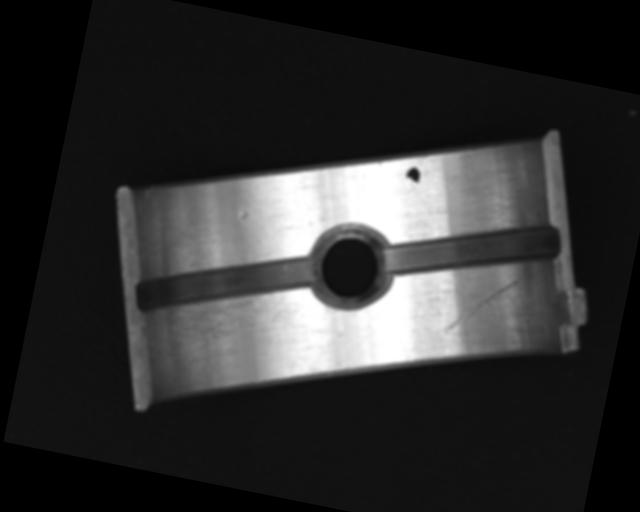blot: (403, 164, 422, 189)
bruise: (237, 209, 250, 221)
gap: (135, 225, 317, 342), (381, 194, 564, 304)
hole: (306, 217, 395, 313)
nick: (442, 265, 521, 347)
scratch: (147, 268, 305, 388)
